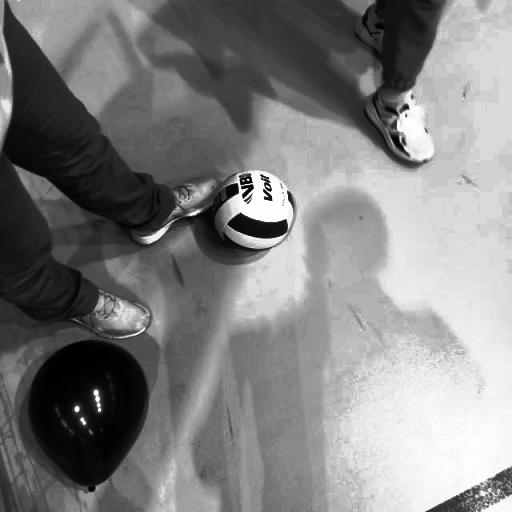balloon: (28, 337, 150, 489)
